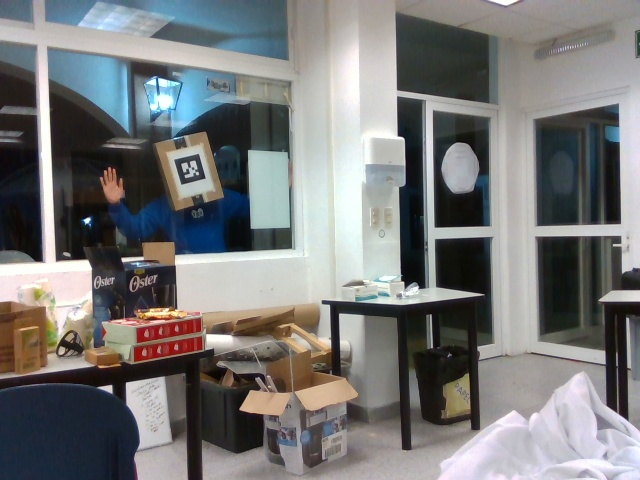ar2: (172, 152, 206, 186)
